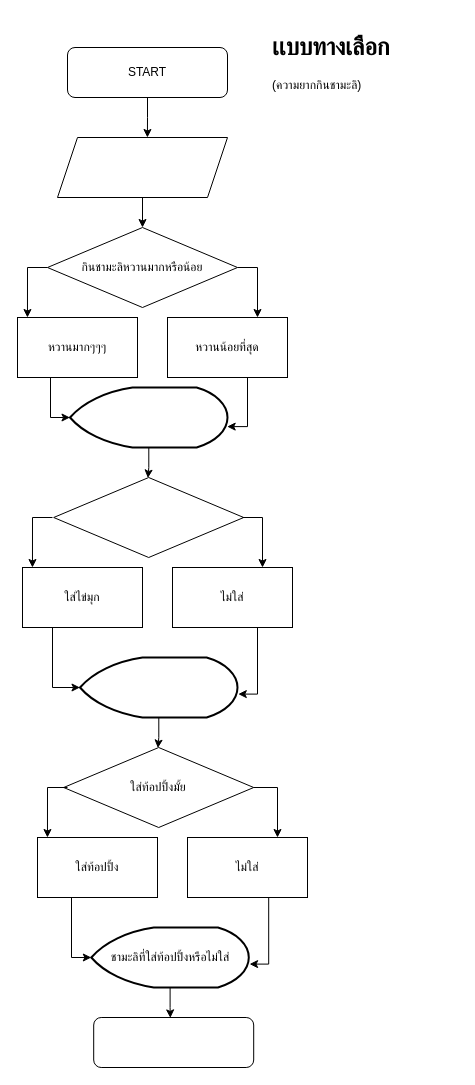
Image size: 475x1085. Some labels were removed from this diagram. The box of each missing label's shape, as (x1, y1, x2, y2) in pixels:
END: (93, 1016, 254, 1068)
ความอยากกินน้ำชามะลิ: (56, 136, 228, 198)
ชามะลิตามระดับความหวาน: (68, 386, 228, 448)
ชามะลิที่ใส่ไข่มุกหรือไม่ใส่: (78, 656, 238, 718)
ใส่ไข่มุกมั้ย: (53, 476, 244, 558)
